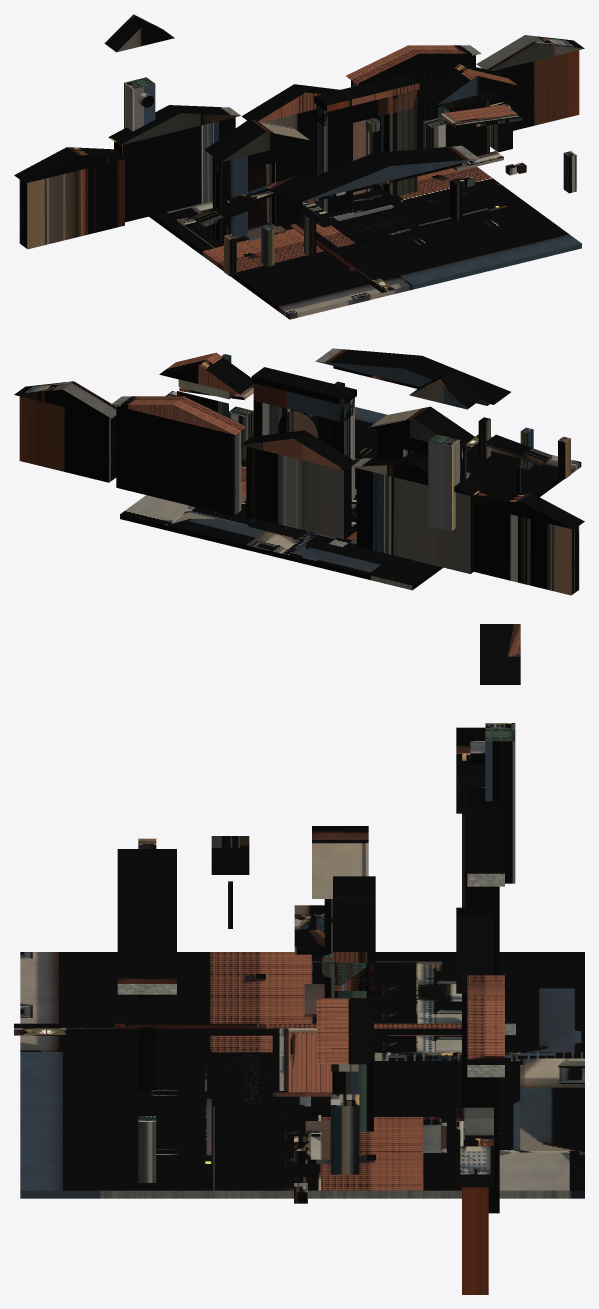
File: environment.obj
3 renders of one model, top to bottom at view 1: azimuth 30°, elevation 25°; view 2: azimuth 150°, elevation 25°; view 3: azimuth 270°, elevation 25°, orthographic. The views are drawn at different scales.
Visible parts, largest first — view 1: RND_Environment_Mesh_EnvironmentBakedAtlas; view 2: RND_Environment_Mesh_EnvironmentBakedAtlas; view 3: RND_Environment_Mesh_EnvironmentBakedAtlas.
Boxes of the visible parts, bbox=[...] form: RND_Environment_Mesh_EnvironmentBakedAtlas: bbox=[14, 14, 584, 319]; RND_Environment_Mesh_EnvironmentBakedAtlas: bbox=[14, 348, 584, 595]; RND_Environment_Mesh_EnvironmentBakedAtlas: bbox=[14, 624, 584, 1294].
Bounding box in the file's own units: 34.45 × 11.62 × 18.2.
